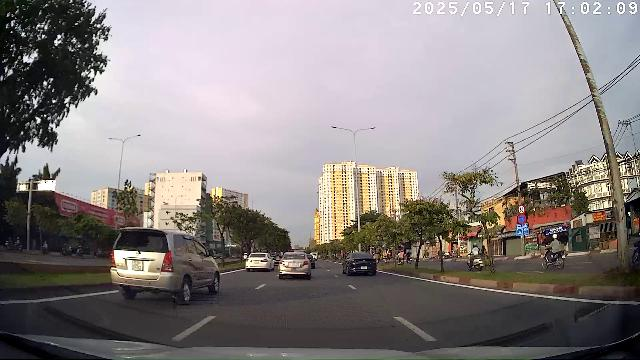127-toc-do-toi-da-60: (517, 204, 526, 214)
131a-cam-do-xe: (517, 214, 527, 224)
